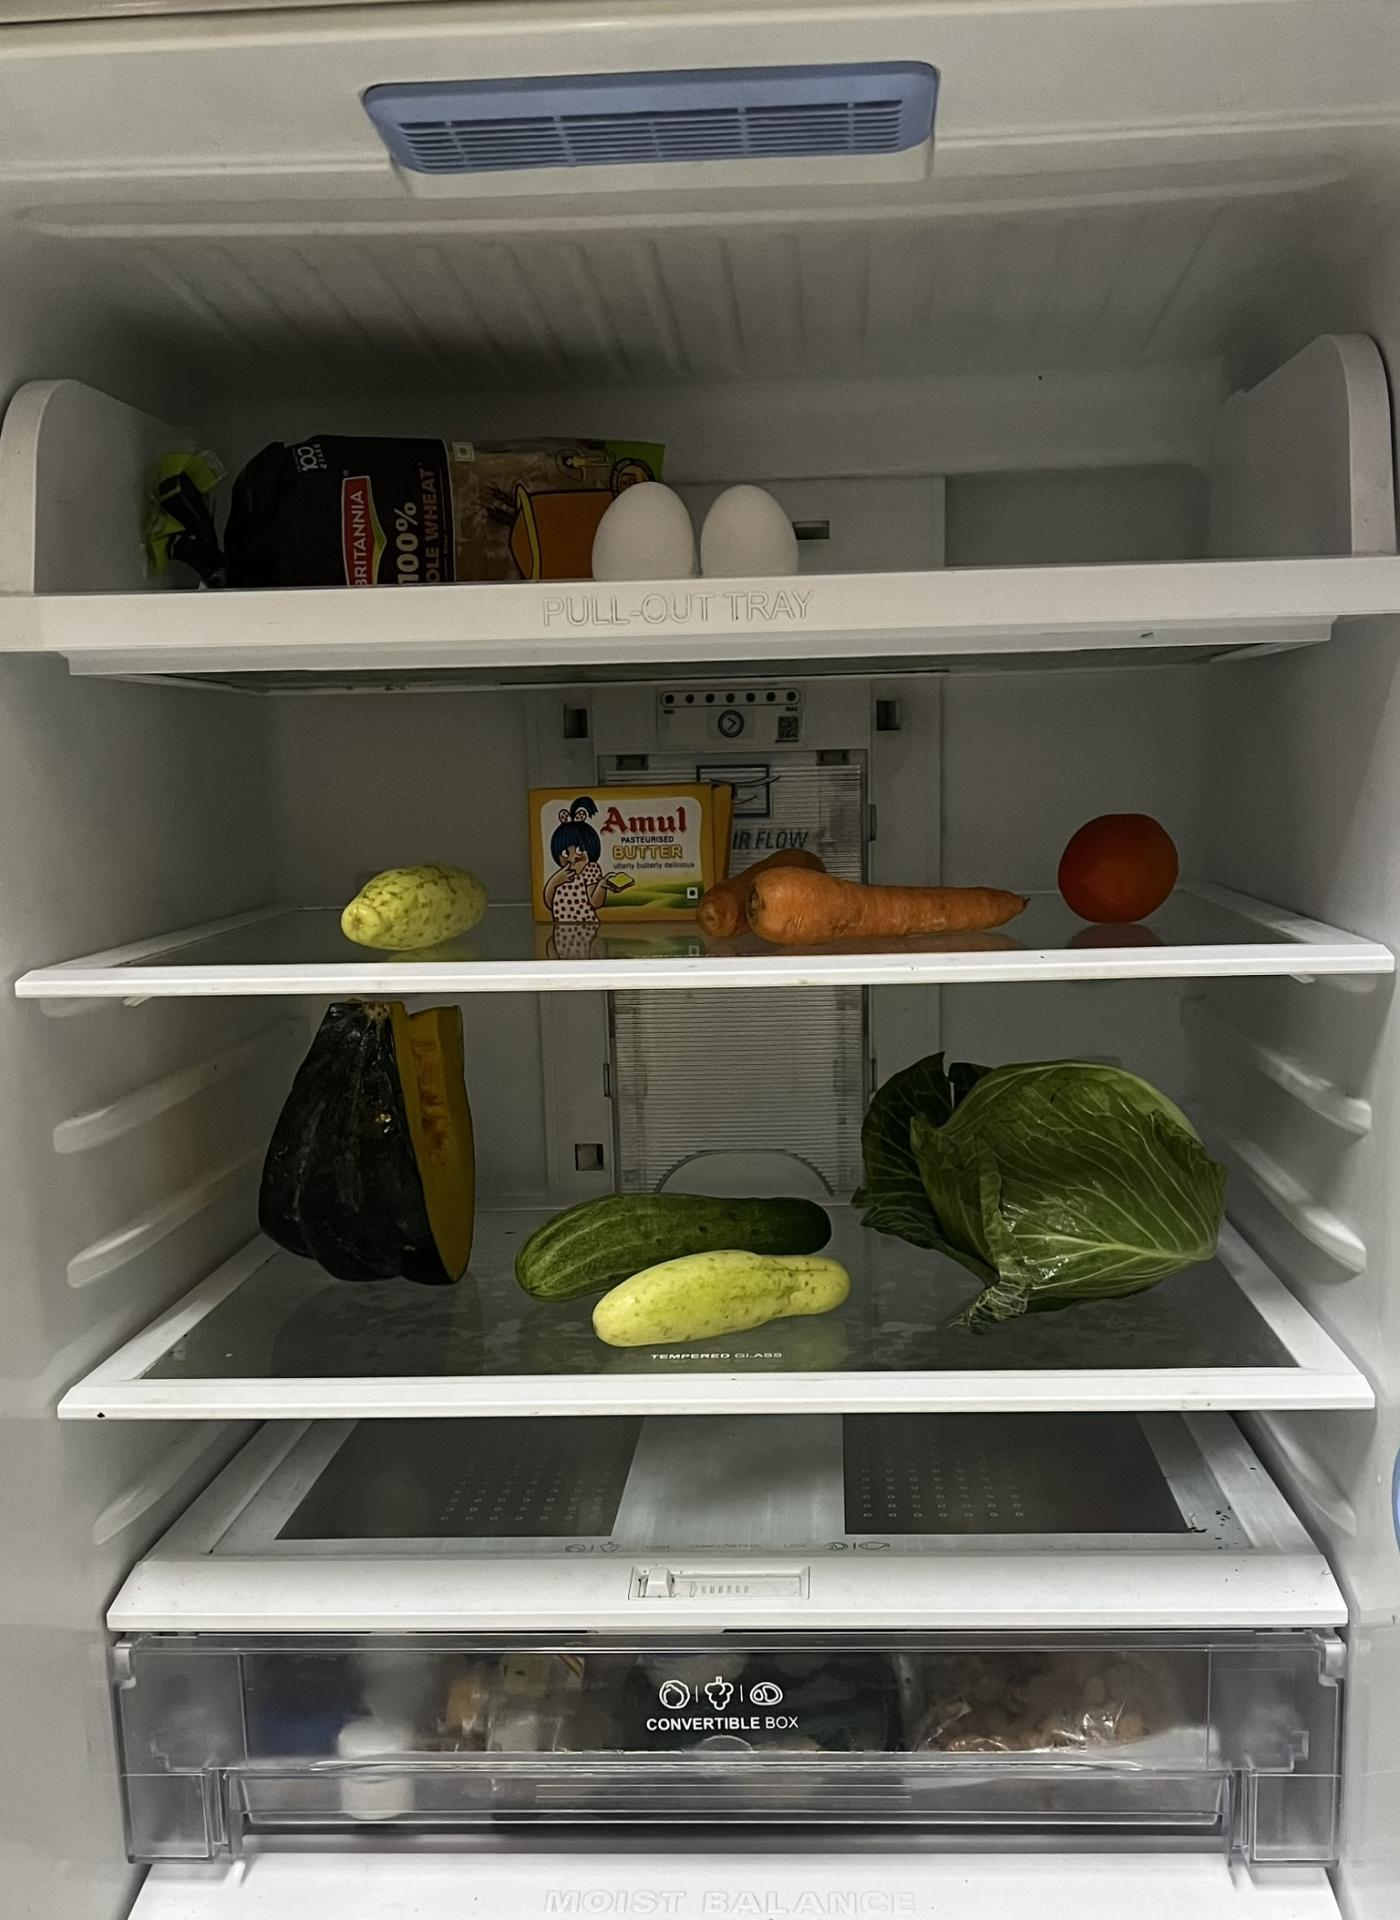bread: (164, 422, 665, 586)
butter: (525, 783, 734, 917)
cabbage: (863, 1052, 1227, 1328)
carrots: (732, 854, 1024, 935)
cucumber: (511, 1194, 839, 1306), (574, 1252, 853, 1348), (337, 863, 494, 951)
egg: (590, 477, 805, 580)
pumpkin: (262, 1005, 496, 1291)
tomato: (1057, 806, 1181, 932)
